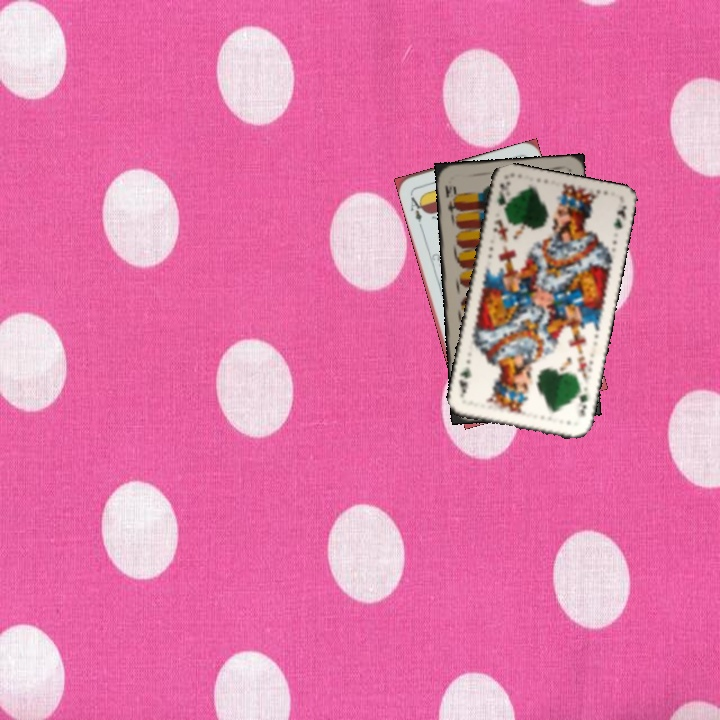E10: (441, 181, 461, 218)
EA: (406, 189, 427, 229)
GK: (493, 177, 512, 216), (573, 384, 590, 419)
